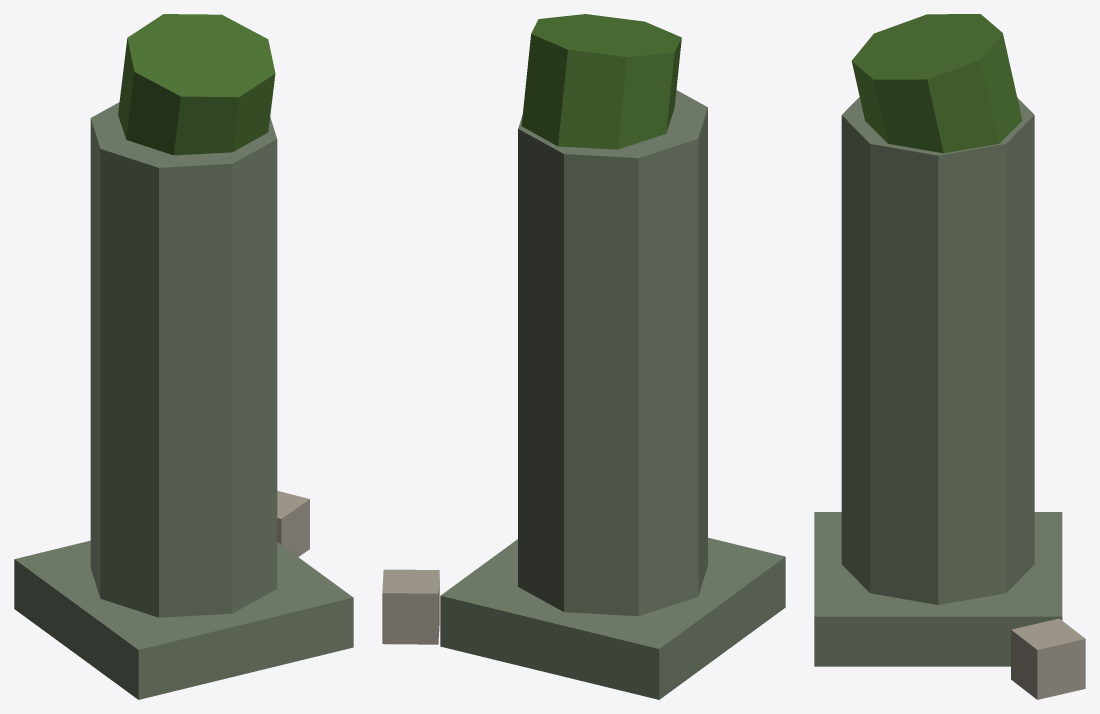
The model's file is ruined_pillar.glb.
3 renders of one model, left to right at view 1: azimuth 30°, elevation 25°; view 2: azimuth 150°, elevation 25°; view 3: azimuth 270°, elevation 25°, orthographic.
Visible parts, largest first — view 1: ruined_pillar; view 2: ruined_pillar; view 3: ruined_pillar.
Part boxes in pixels (box(x1,y1,x2,y2)): ruined_pillar: box(14, 14, 353, 699); ruined_pillar: box(382, 14, 785, 699); ruined_pillar: box(814, 14, 1085, 699).
Bounding box in the file's own units: 1.19 × 2.35 × 0.9857.
